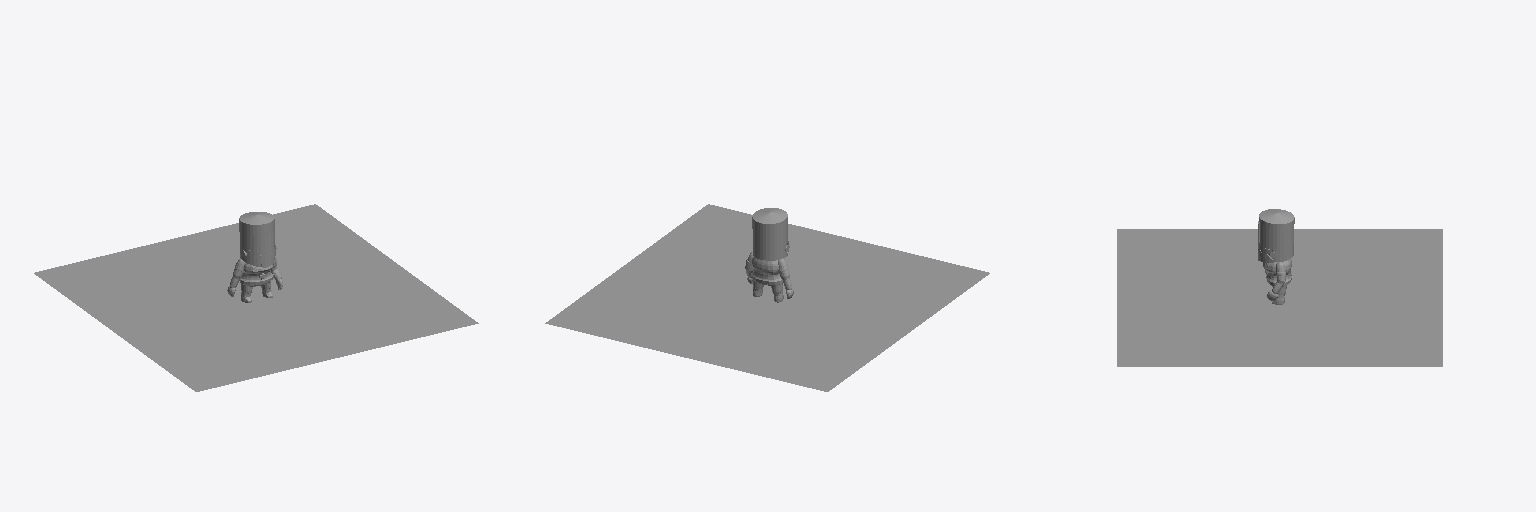
The model's file is Deidad1.obj.
The picture shows the model from 3 angles: view 1: azimuth 30°, elevation 25°; view 2: azimuth 150°, elevation 25°; view 3: azimuth 270°, elevation 25°; orthographic projection.
Visible parts, largest first — view 1: Plane, KNIGHT_BODY_CENTRE_CHEST_HEAD_HEAD1_Cylinder8_Cylinder11, KNIGHT_BODY_BODY1, KNIGHT_BODY_CENTRE_CHEST_HEAD_HEAD1_Cylinder9_Cylinder1; view 2: Plane, KNIGHT_BODY_CENTRE_CHEST_HEAD_HEAD1_Cylinder8_Cylinder11, KNIGHT_BODY_BODY1; view 3: Plane, KNIGHT_BODY_CENTRE_CHEST_HEAD_HEAD1_Cylinder8_Cylinder11.
Part boxes in pixels (left/top/right/bottom): Plane: left=34, top=204, right=478, bottom=391; KNIGHT_BODY_CENTRE_CHEST_HEAD_HEAD1_Cylinder8_Cylinder11: left=239, top=212, right=274, bottom=266; KNIGHT_BODY_BODY1: left=239, top=262, right=273, bottom=286; KNIGHT_BODY_CENTRE_CHEST_HEAD_HEAD1_Cylinder9_Cylinder1: left=244, top=227, right=275, bottom=267; Plane: left=545, top=204, right=989, bottom=391; KNIGHT_BODY_CENTRE_CHEST_HEAD_HEAD1_Cylinder8_Cylinder11: left=752, top=208, right=787, bottom=260; KNIGHT_BODY_BODY1: left=751, top=257, right=783, bottom=285; Plane: left=1117, top=229, right=1442, bottom=366; KNIGHT_BODY_CENTRE_CHEST_HEAD_HEAD1_Cylinder8_Cylinder11: left=1259, top=209, right=1294, bottom=262.
Size of the model in its own units: 29.73 by 8.57 by 29.73.